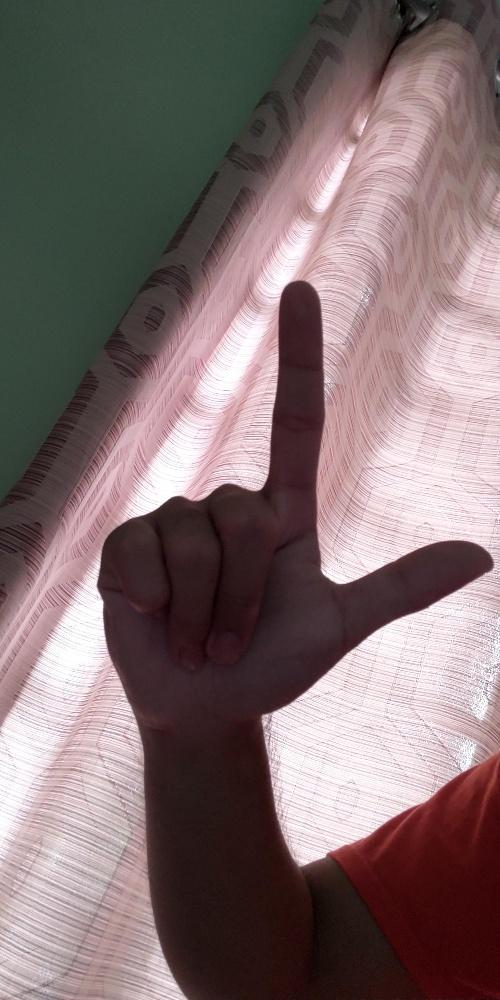l: (97, 278, 496, 743)
